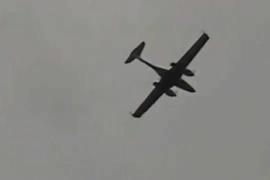aircraft: (125, 32, 211, 119)
